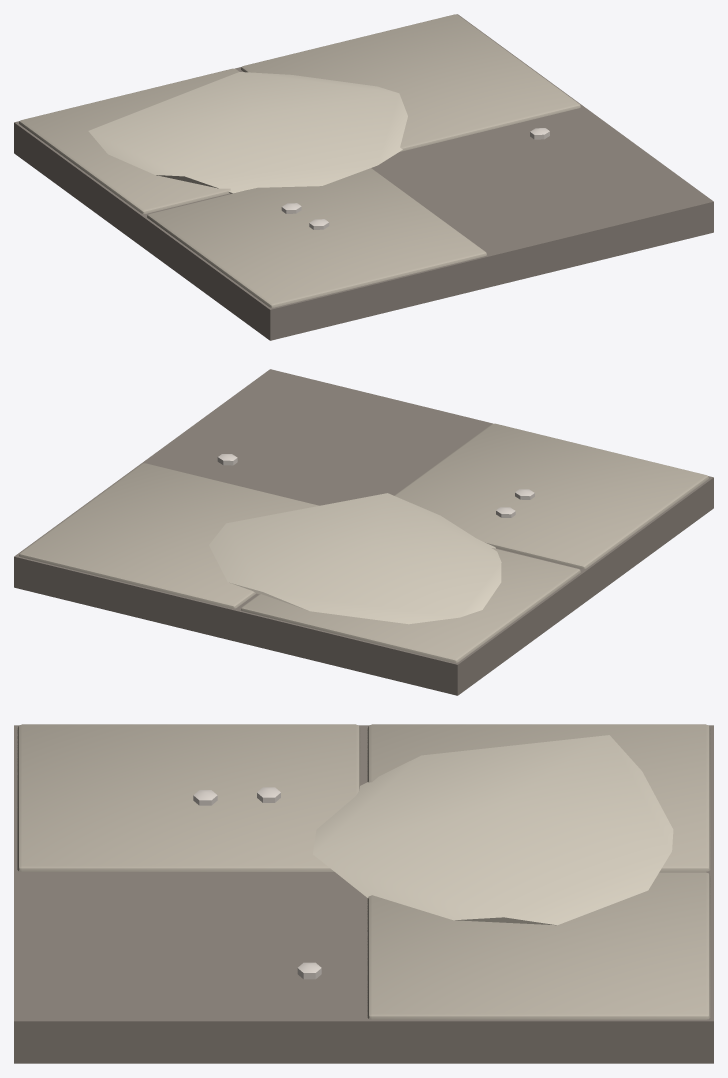
File: dk_floor_worn.gltf
3 views of the same model, one above another, from view 1: azimuth 30°, elevation 25°; view 2: azimuth 150°, elevation 25°; view 3: azimuth 270°, elevation 25° (orthographic). The views are drawn at different scales.
Parts seen in each view (by area): view 1: Body; view 2: Body; view 3: Body.
Part boxes in pixels (x1,y1,x2,y2): Body: [14, 14, 713, 340]; Body: [14, 369, 713, 695]; Body: [14, 724, 713, 1063].
Size of the model in its own units: 3 by 0.3433 by 3.
